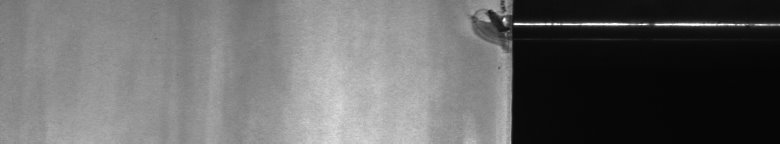hb: (464, 4, 500, 70)
